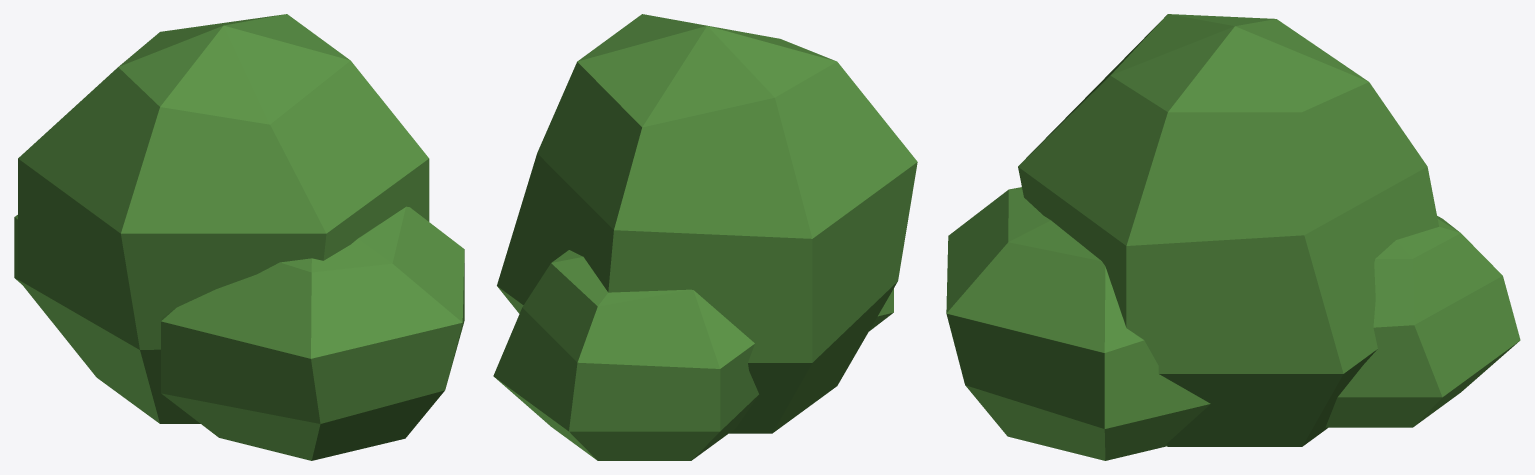
Rendered from pensas1.glb.
The picture shows the model from 3 angles, left to right: view 1: azimuth 30°, elevation 25°; view 2: azimuth 150°, elevation 25°; view 3: azimuth 270°, elevation 25°; orthographic projection. The views are drawn at different scales.
Parts seen in each view (by area): view 1: Cube.001; view 2: Cube.001; view 3: Cube.001.
Part boxes in pixels (bbox=[...]): Cube.001: bbox=[14, 14, 464, 460]; Cube.001: bbox=[493, 14, 917, 460]; Cube.001: bbox=[946, 14, 1520, 460].
Bounding box in the file's own units: 1.14 × 1.17 × 1.61.
